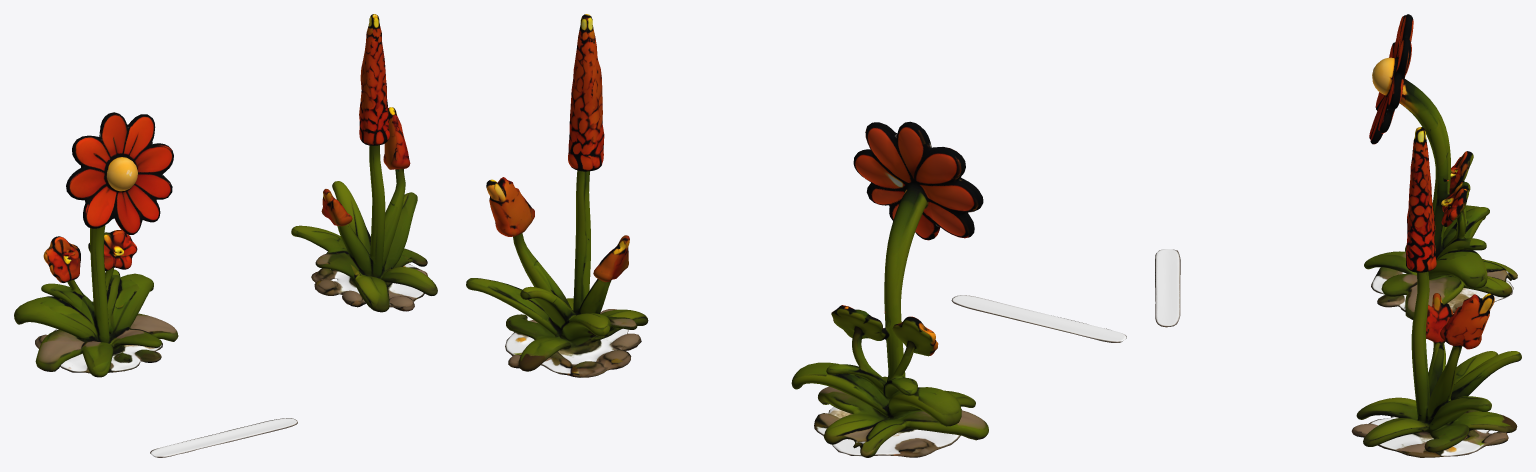
Rendered from flor.fbx.
3 views of the same model, side by side, from view 1: azimuth 30°, elevation 25°; view 2: azimuth 150°, elevation 25°; view 3: azimuth 270°, elevation 25° (orthographic). The views are drawn at different scales.
Visible parts, largest first — view 1: tripo_node_e16ac466; view 2: tripo_node_e16ac466; view 3: tripo_node_e16ac466.
Boxes of the visible parts, x1,y1,x2,y2 form: tripo_node_e16ac466: (14,14,437,457); tripo_node_e16ac466: (466,14,1126,457); tripo_node_e16ac466: (1155,14,1521,457).
Size of the model in its own units: 99.87 by 64.76 by 70.57.
1 material, 1 textured.
